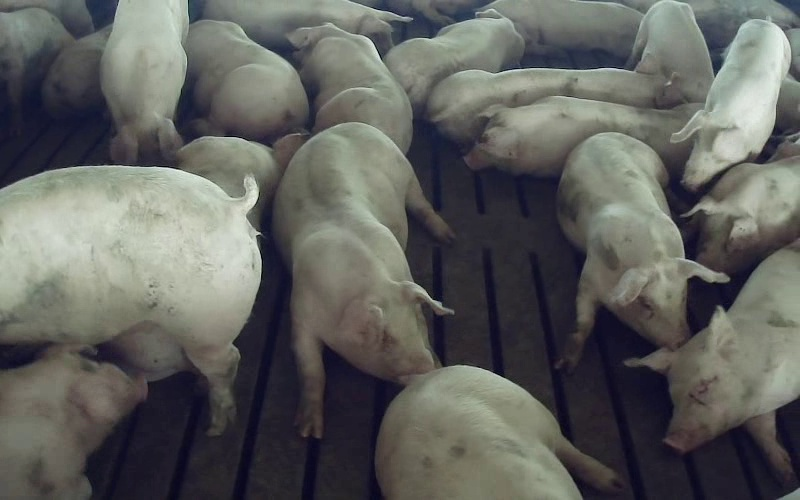pig: (274, 122, 451, 436), (626, 241, 799, 486), (556, 133, 728, 371), (376, 366, 621, 499), (426, 51, 682, 145), (0, 345, 145, 499), (671, 19, 790, 190), (464, 96, 701, 176), (289, 23, 412, 153), (383, 9, 524, 116), (186, 20, 308, 142), (100, 0, 188, 163), (682, 156, 799, 274), (202, 0, 410, 53), (485, 0, 642, 58), (628, 0, 713, 101)
